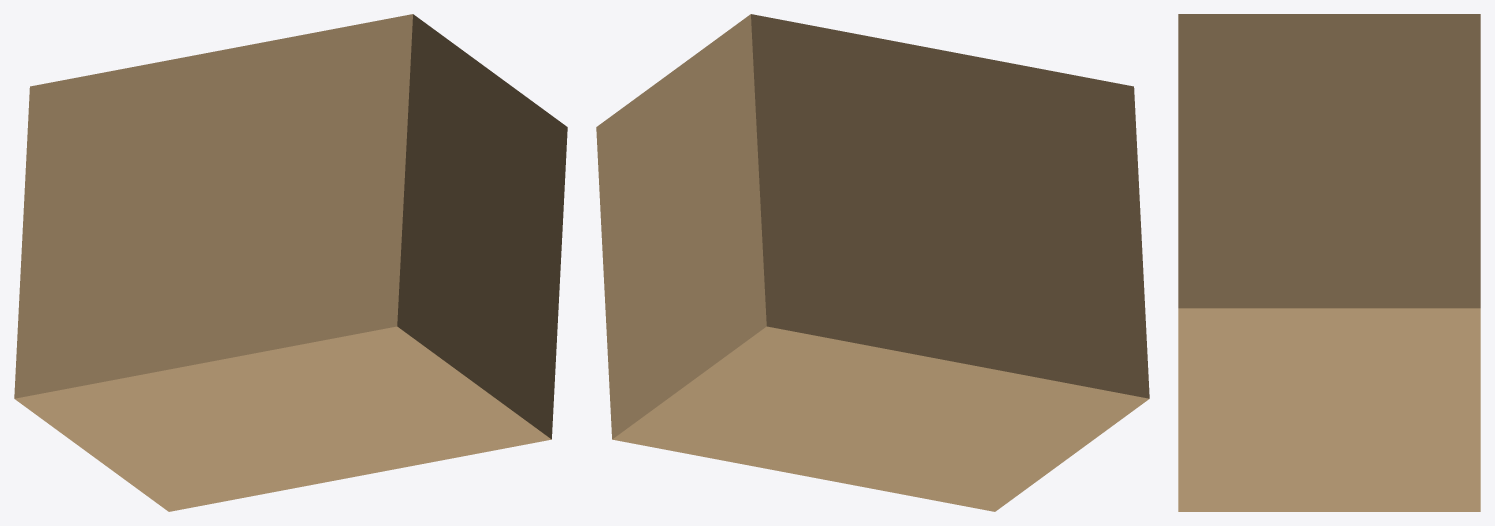
3 renders of one model, left to right at view 1: azimuth 30°, elevation 25°; view 2: azimuth 150°, elevation 25°; view 3: azimuth 270°, elevation 25°, orthographic. The views are drawn at different scales.
Parts seen in each view (by area): view 1: 0_0_3_1_2_0_1_2_3; view 2: 0_0_3_1_2_0_1_2_3; view 3: 0_0_3_1_2_0_1_2_3.
Boxes of the visible parts, x1=… form: 0_0_3_1_2_0_1_2_3: x1=14, y1=14, x2=567, y2=511; 0_0_3_1_2_0_1_2_3: x1=596, y1=14, x2=1149, y2=511; 0_0_3_1_2_0_1_2_3: x1=1178, y1=14, x2=1480, y2=511.
Bounding box in the file's own units: 40.21 × 31.75 × 27.
